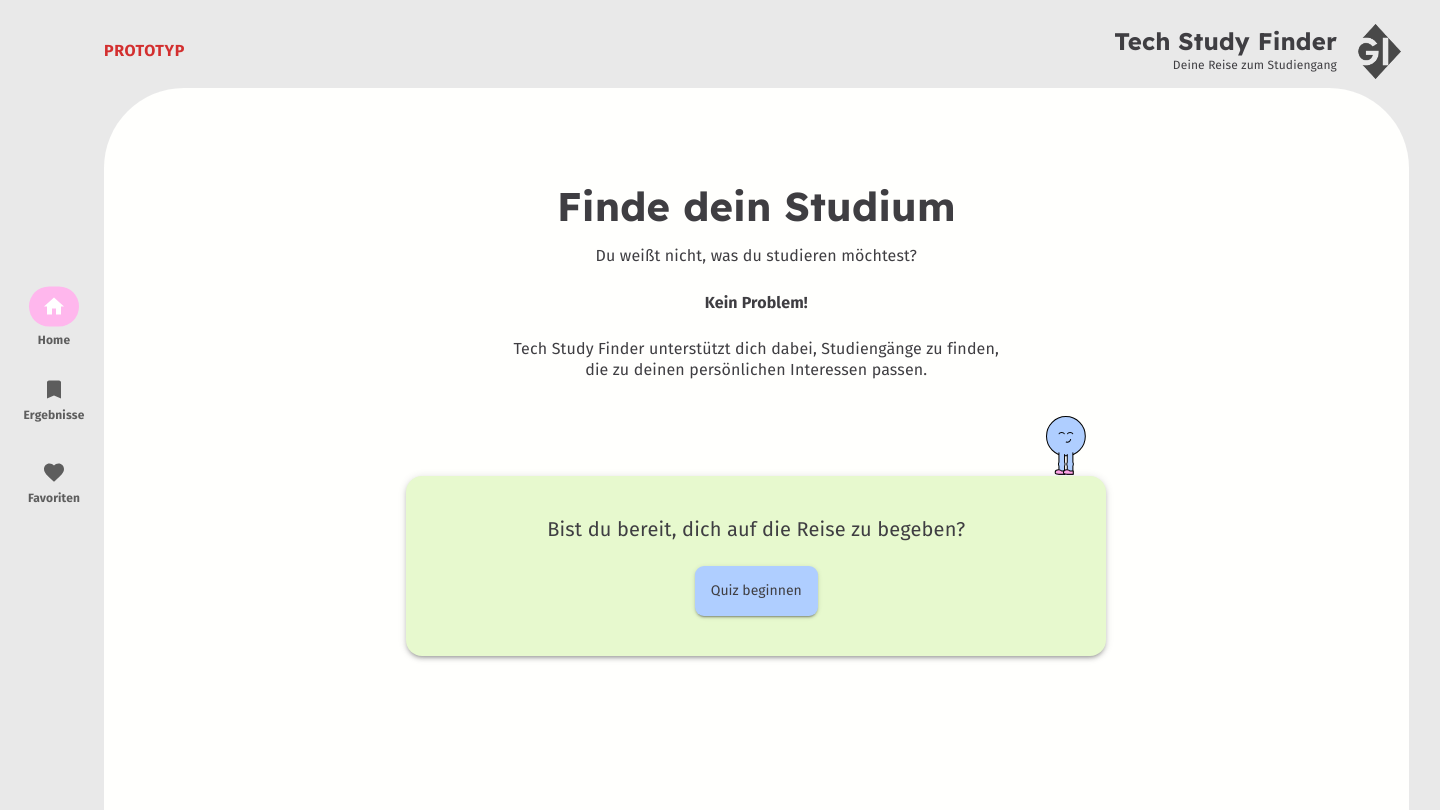
Test case: Homescreen Component › opens dialog when a saved session exists (does not navigate immediately)
The width and height of the screenshot is (1440, 810).
Click the button "Quiz beginnen" at (756, 591), box top-left (695, 566), bottom-right (818, 616)
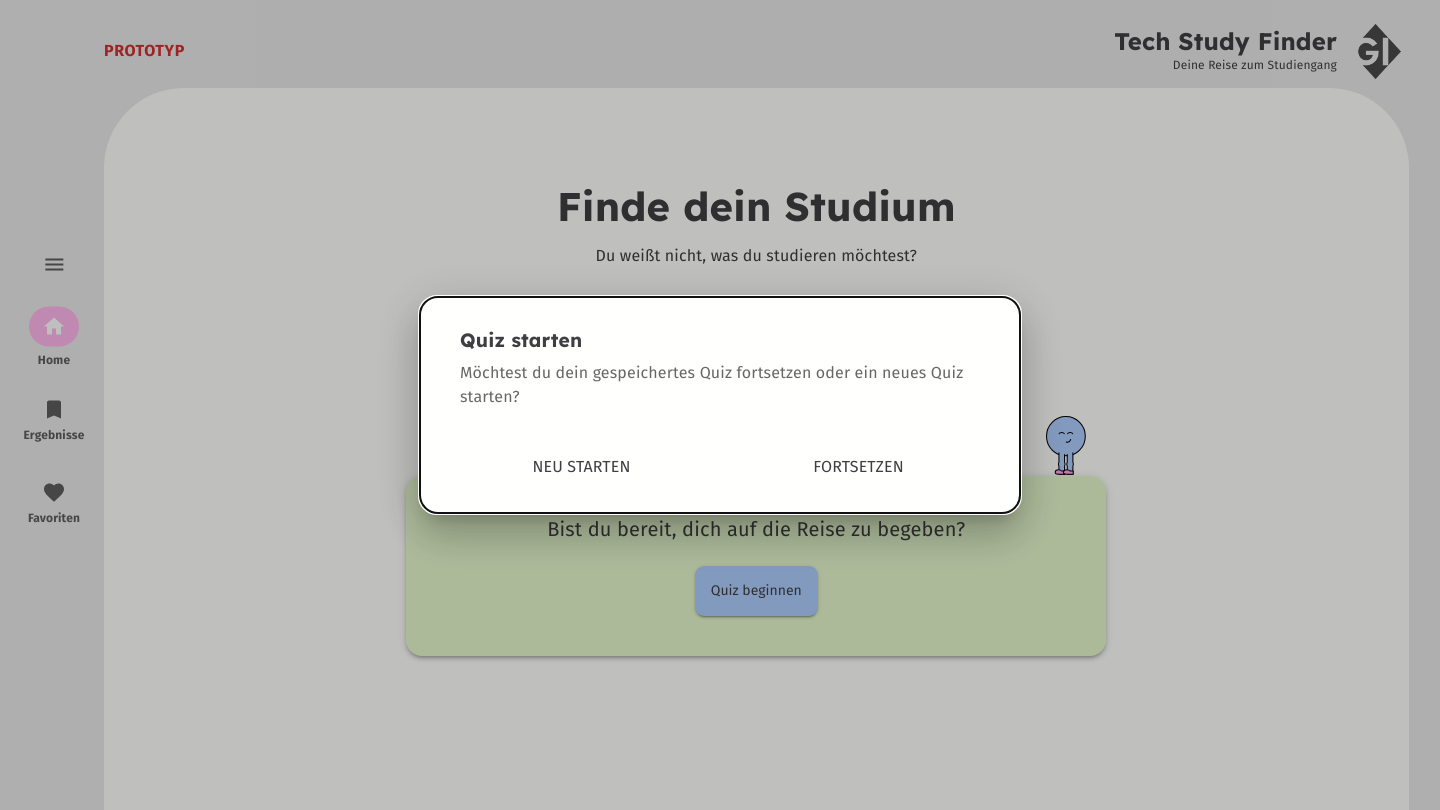
Now the dialog is shown, box top-left (420, 298), bottom-right (1020, 512)
Now the text "Möchtest du dein gespeichertes Quiz fortsetzen oder ein neues Quiz starten?" is shown, box top-left (460, 360), bottom-right (980, 408)
